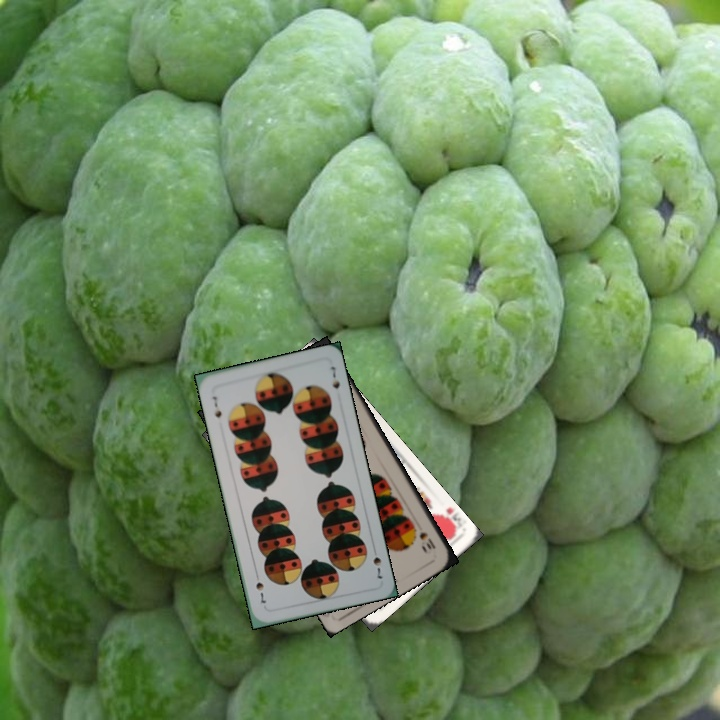HK: (433, 503, 459, 537)
S10: (415, 527, 438, 552)
S7: (369, 543, 385, 582), (208, 392, 224, 420)
